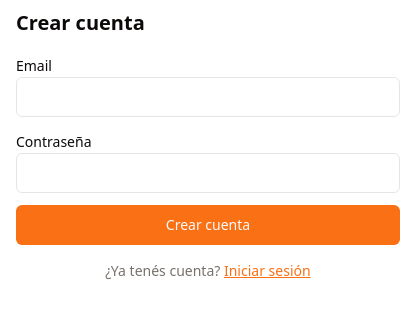
Scenario: RegistroPage › shows an error when the signup fails
The image size is (417, 329).
What coordinates should you click on to do the following:
click the button "Crear cuenta"
I would click on:
 (208, 225)
Its box is [16,205,400,245].
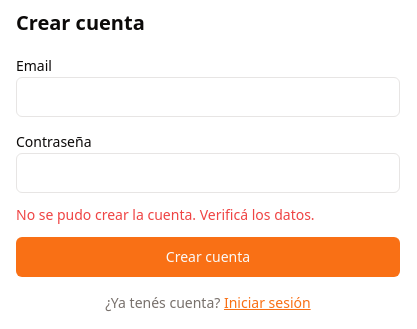
Expected: the text "No se pudo crear la cuenta. Verificá los datos." is shown, [16,205,315,224]
